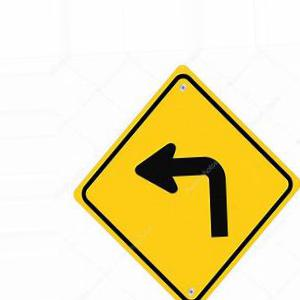left: (72, 64, 300, 300)
